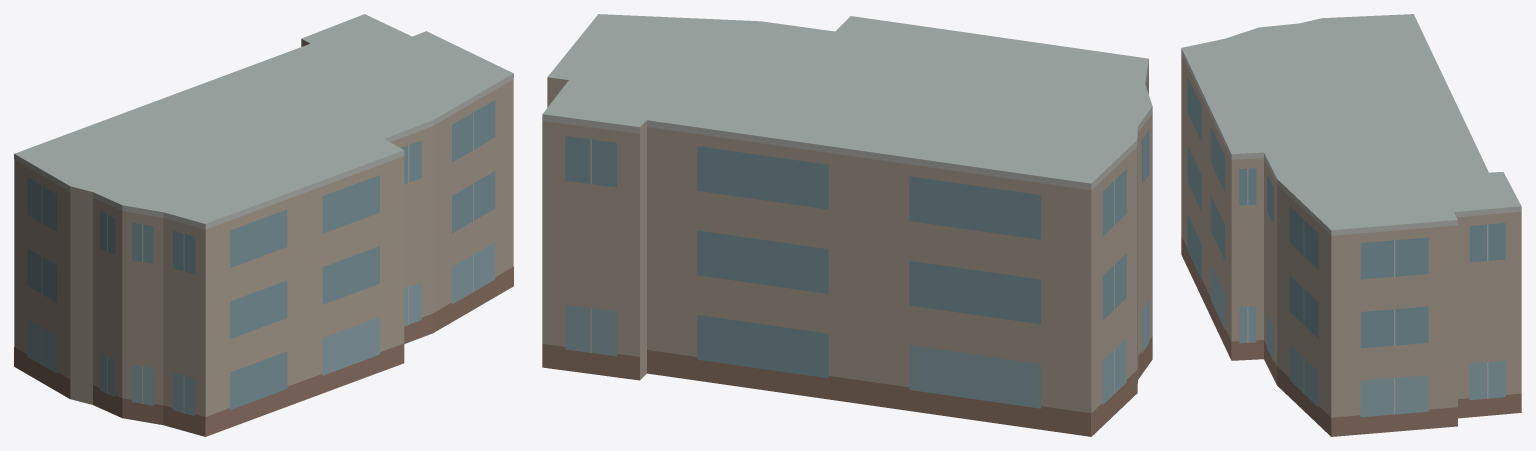
Rendered from survey-upis-32602821.glb.
The picture shows the model from 3 angles, left to right: view 1: azimuth 30°, elevation 25°; view 2: azimuth 150°, elevation 25°; view 3: azimuth 270°, elevation 25°; orthographic projection. The views are drawn at different scales.
Visible parts, largest first — view 1: survey-upis-32602821.tmp; view 2: survey-upis-32602821.tmp; view 3: survey-upis-32602821.tmp.
Part boxes in pixels (x1,y1,x2,y2): survey-upis-32602821.tmp: (14, 14, 513, 436); survey-upis-32602821.tmp: (542, 14, 1152, 436); survey-upis-32602821.tmp: (1181, 14, 1521, 436).
Bounding box in the file's own units: 20.56 × 9.15 × 13.67.
